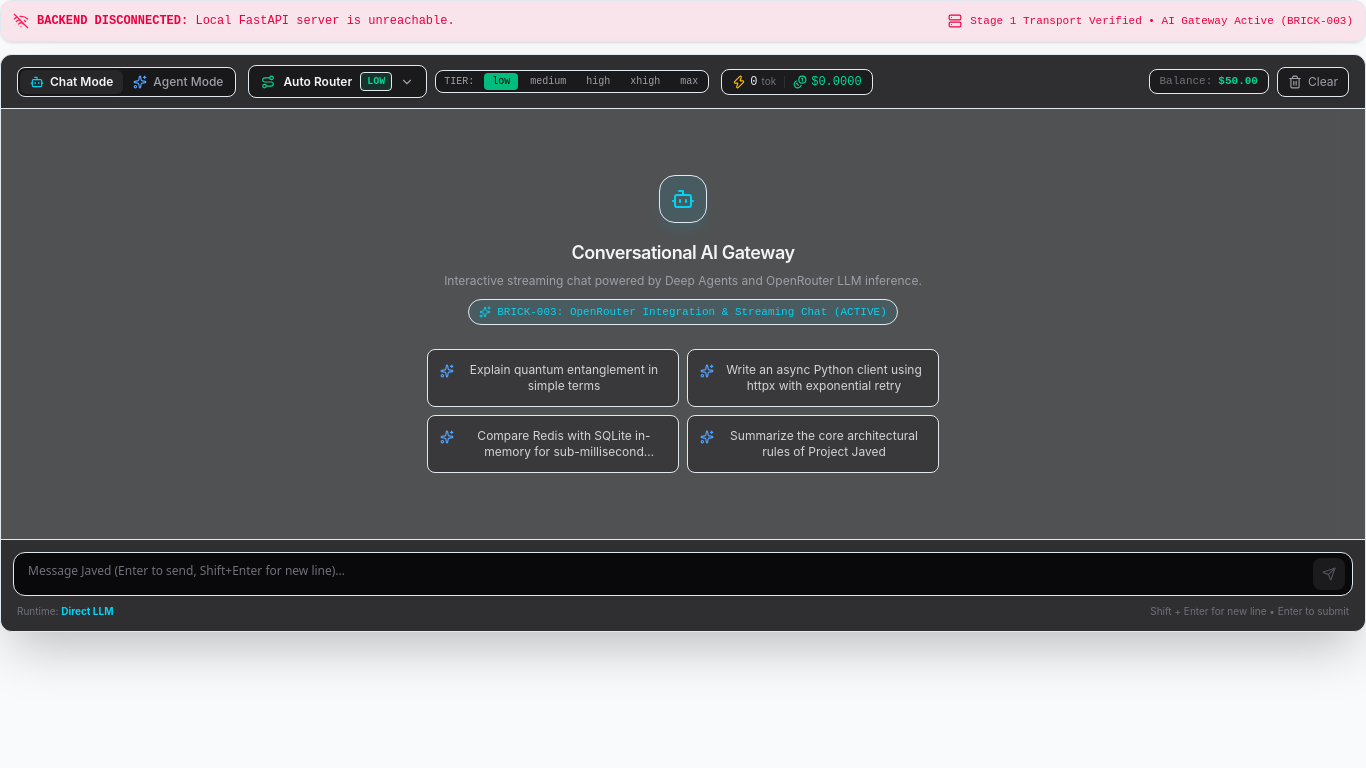
Scenario: ChatView Full-Stack Integration › supports selecting openrouter/auto, switching cost tier, and displaying routed model badge
Expected: the text "Auto Router" is shown, [283,74,352,90]
Expected: the button "low" is shown, [484,73,518,90]
// Switch cost tier to medium
Click the button "medium" at (548,82), box [522,73,574,90]
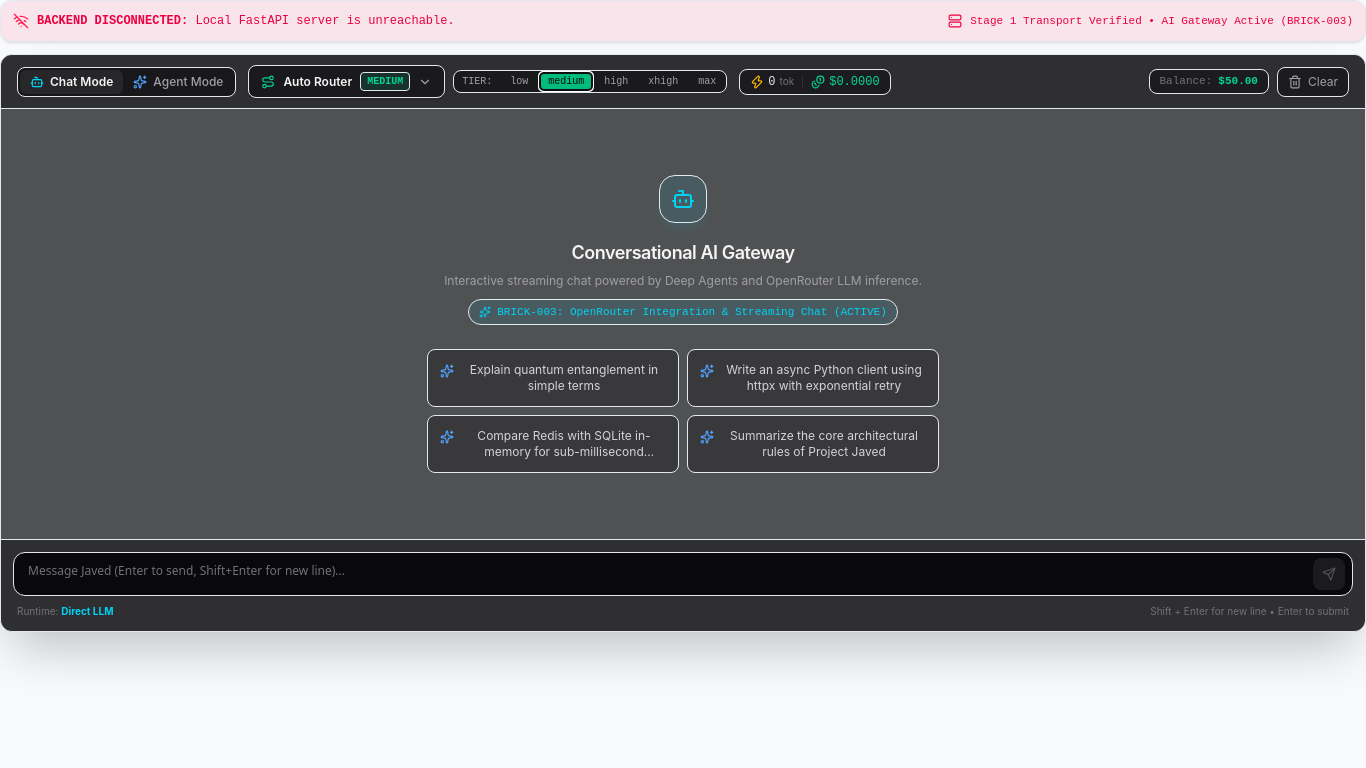
// Send a message
Type "Auto route this query" into the text box with placeholder "Message Javed (Enter to send, Shift+Enter for new line)..." at (683,574), box [13,552,1353,596]
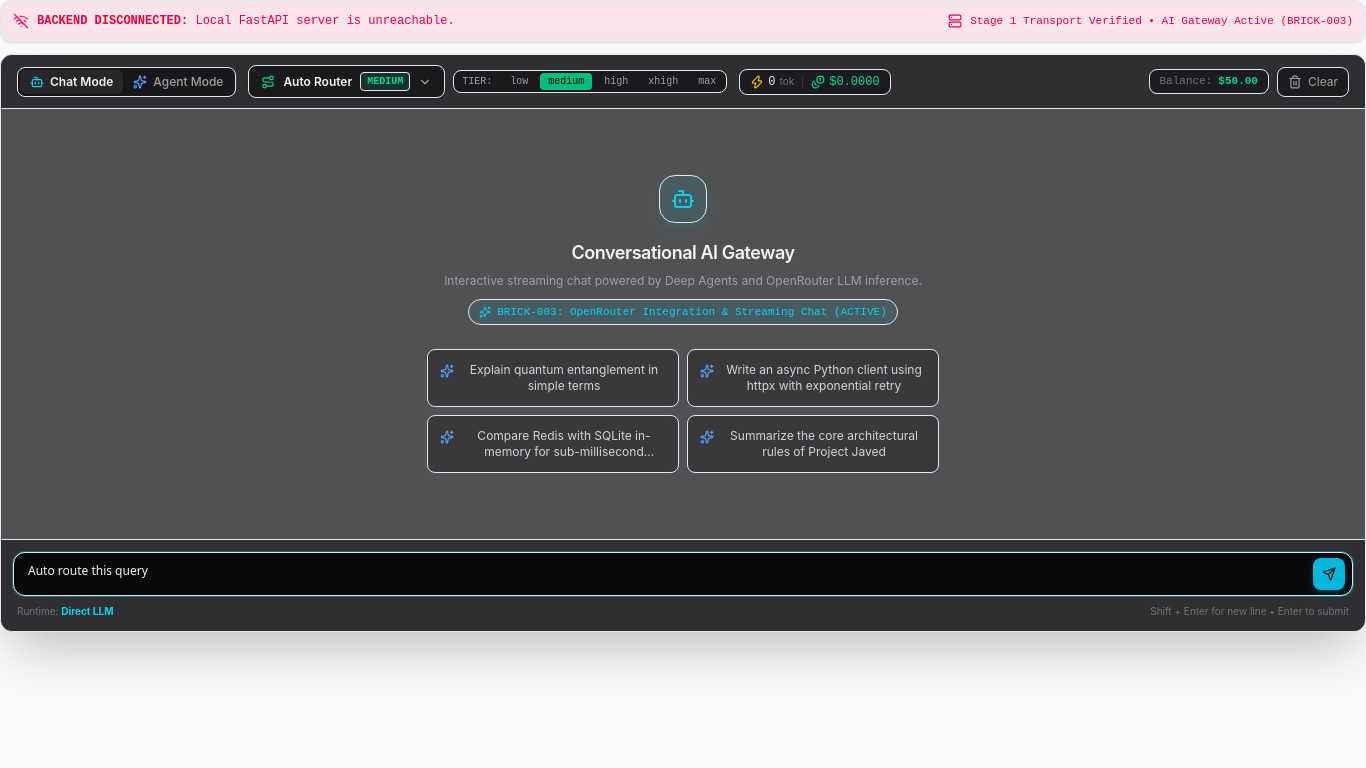
Click the button named "send message" at (1329,574), box [1313,558,1345,590]
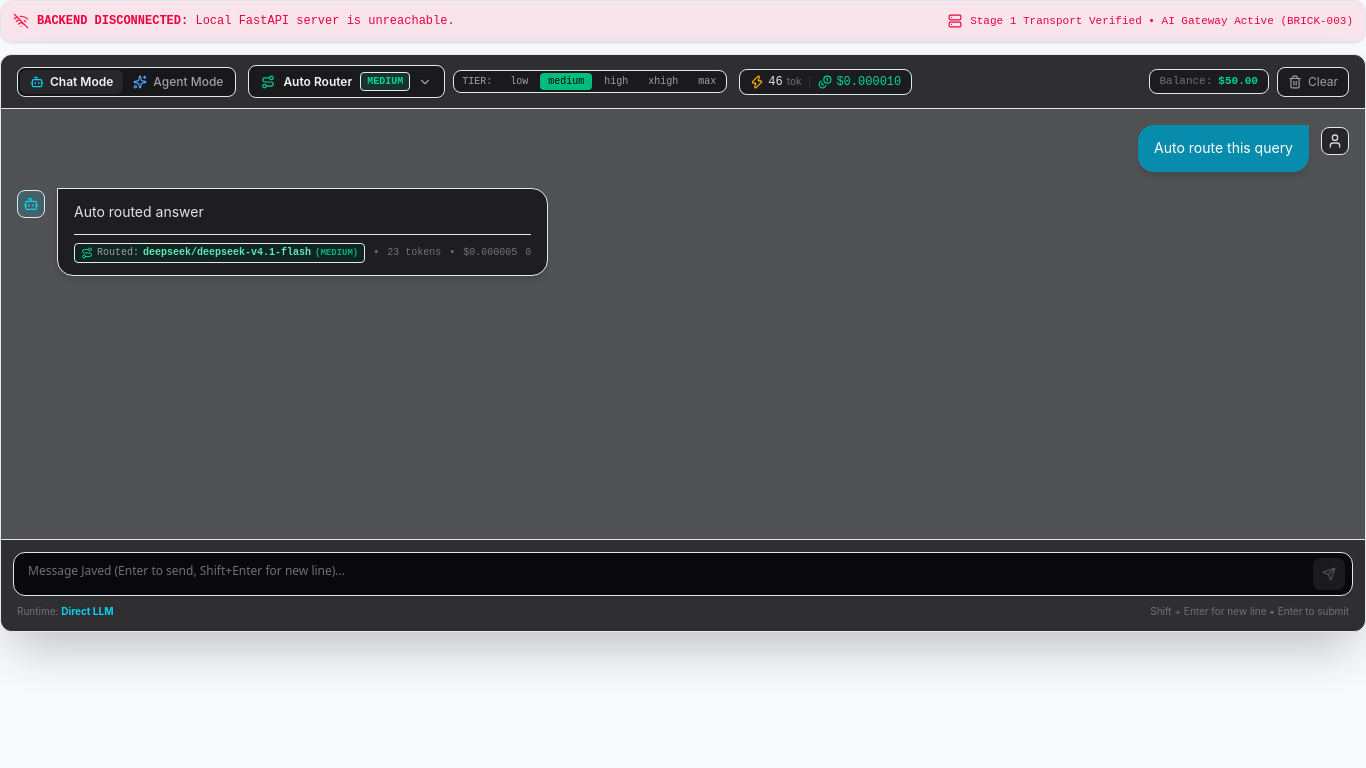
Now the text "Auto routed answer" is shown, box [74,203,204,220]
Now the text "deepseek/deepseek-v4.1-flash" is shown, box [143,246,311,260]
